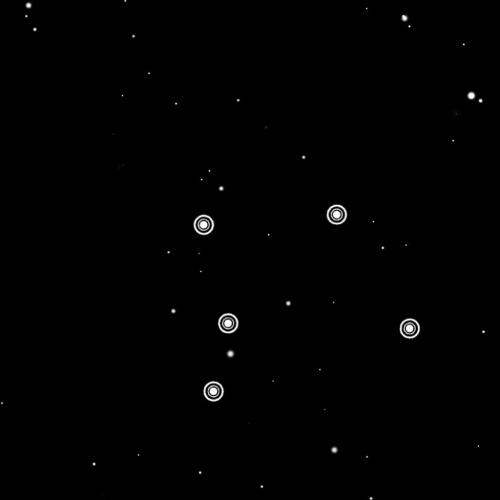libra: (188, 196, 428, 406)
